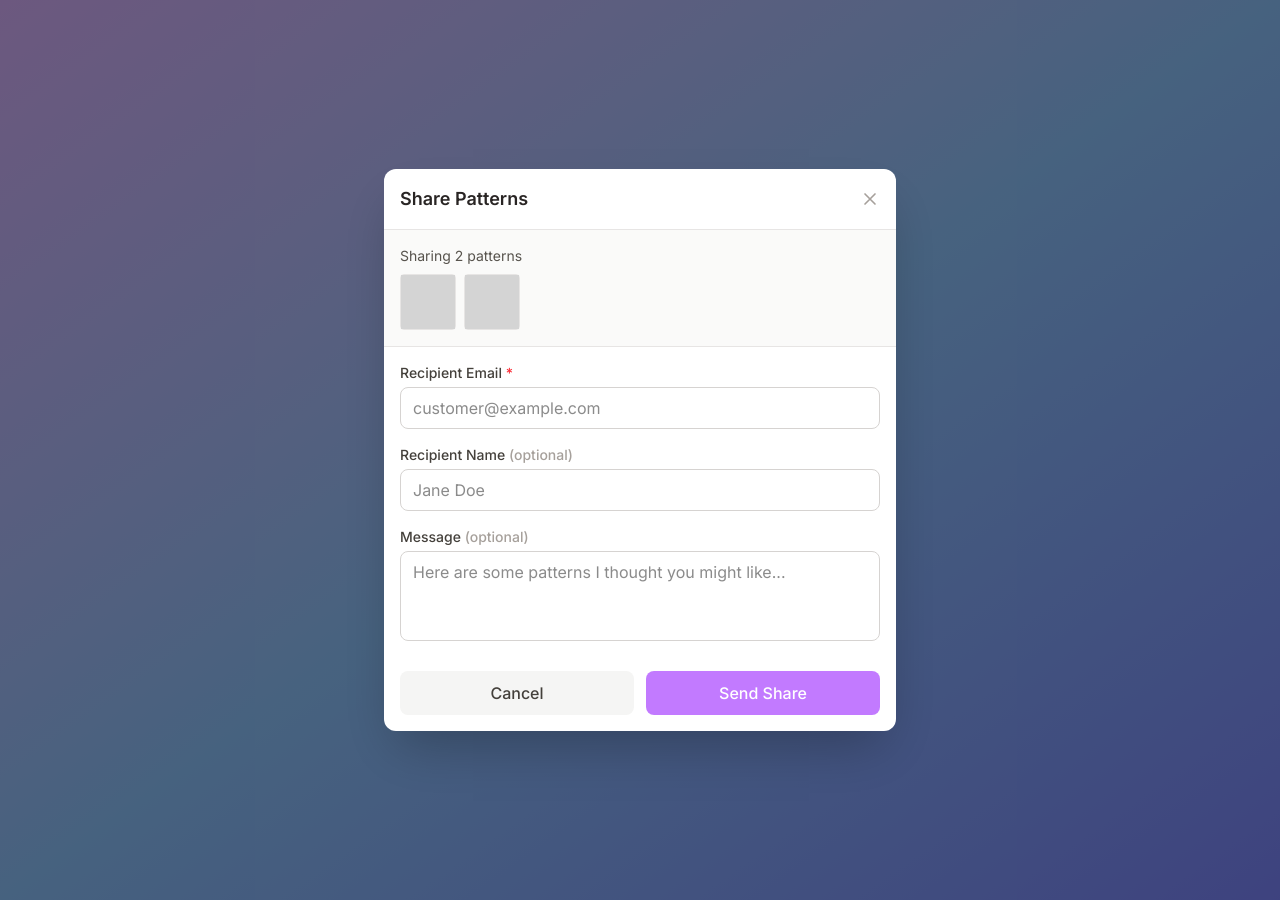
Test case: ShareModal › success state › shows success view after successful submission
Step 1. Type "recipient@example.com" into the field labelled "Recipient Email *" → x=640, y=408, box x1=400 y1=387 x2=880 y2=429
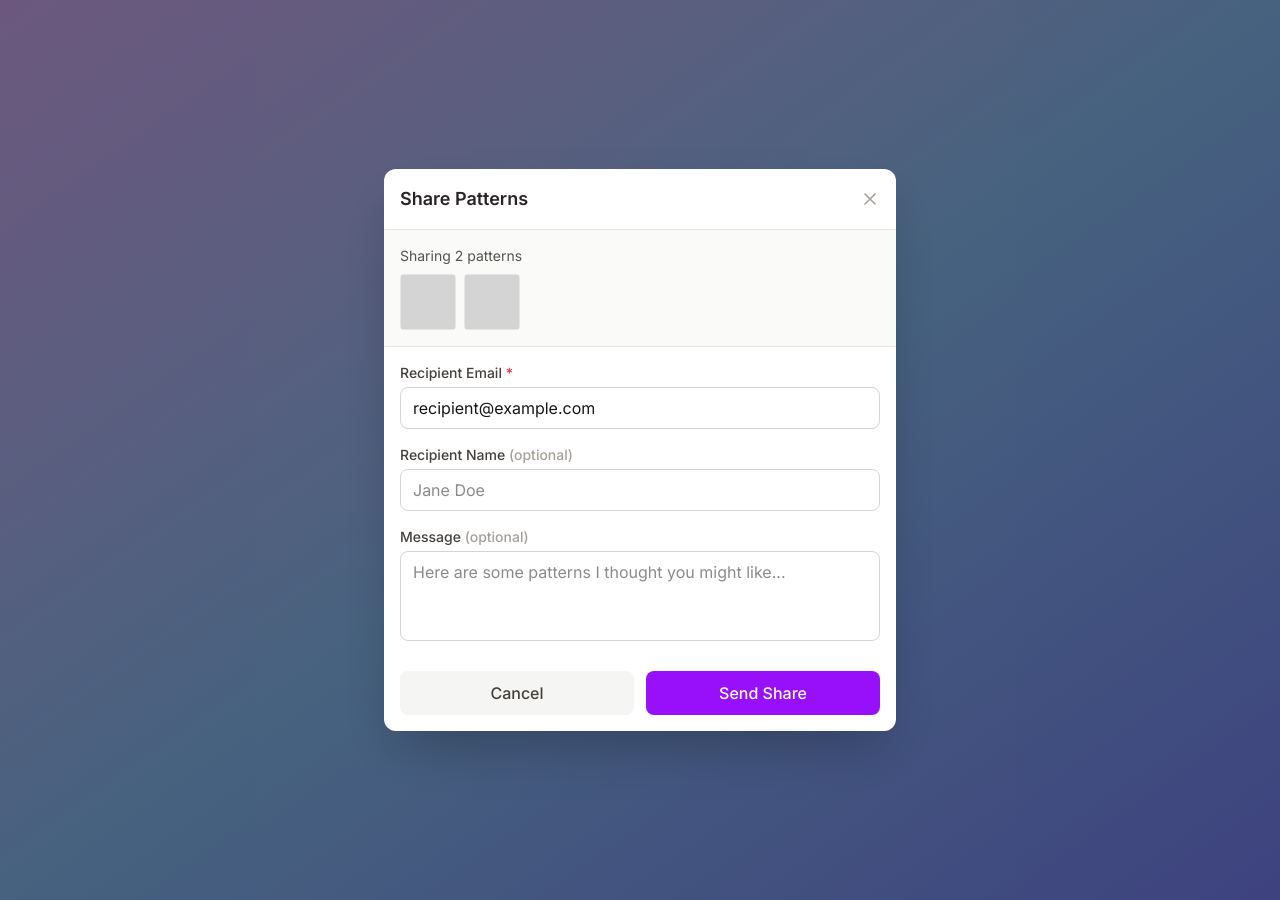
Step 2. Click the button "Send Share" → x=763, y=693, box x1=646 y1=671 x2=880 y2=715
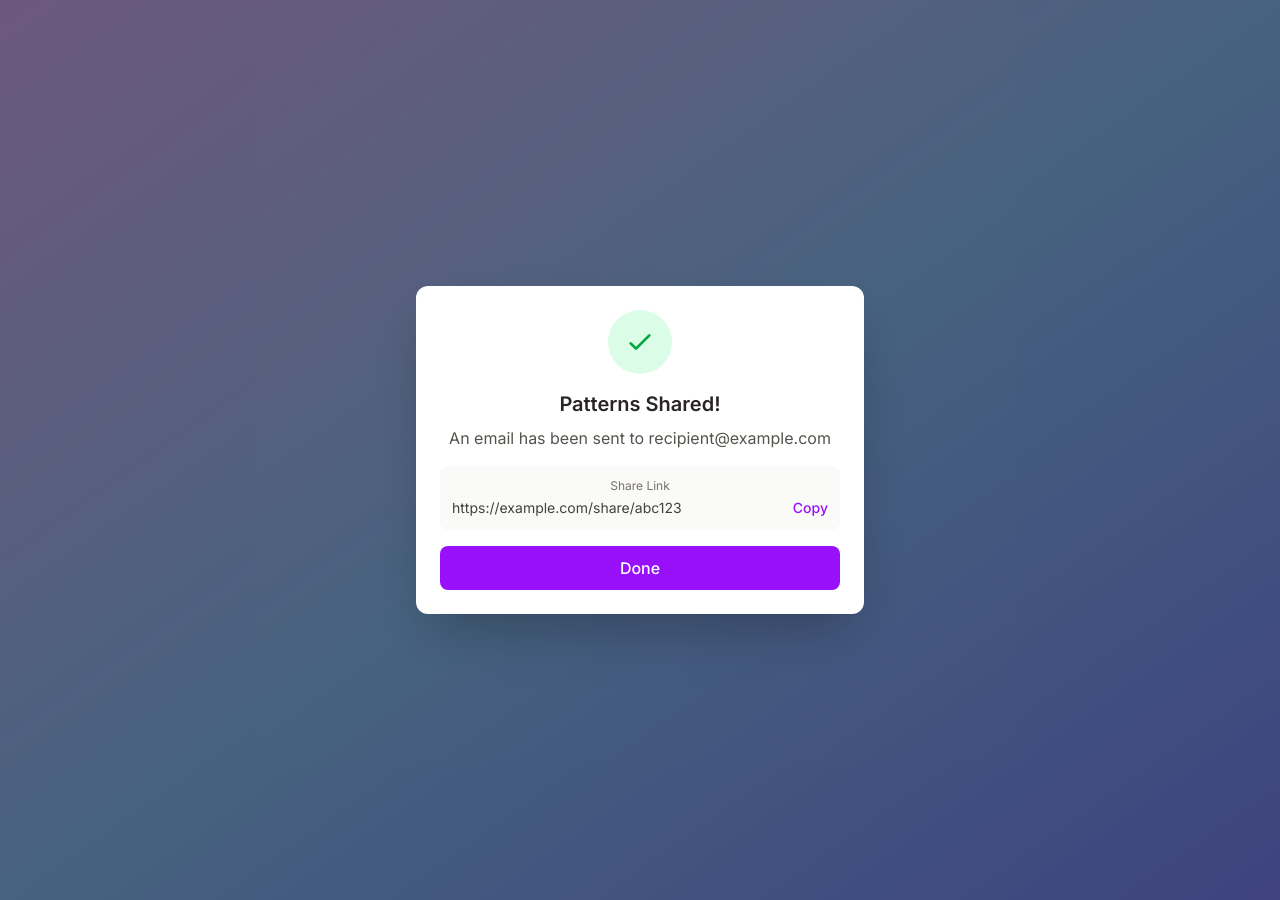
Expected: the heading "Patterns Shared!" is shown, x1=559 y1=392 x2=721 y2=416
